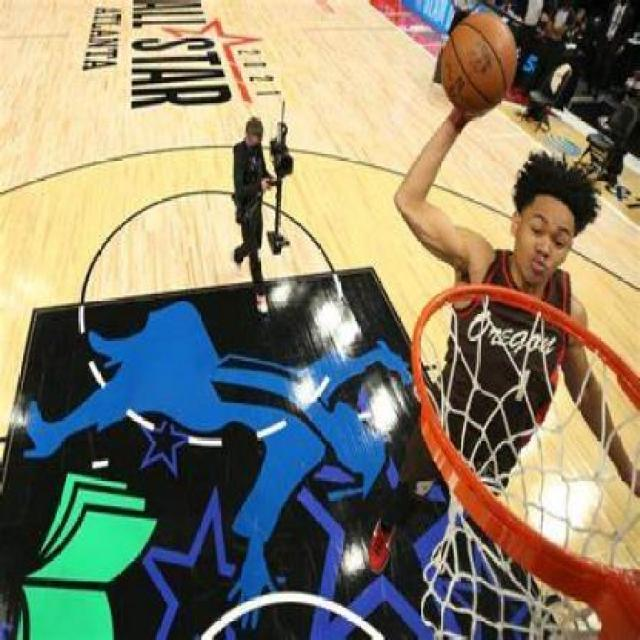basketball: (439, 13, 516, 119)
